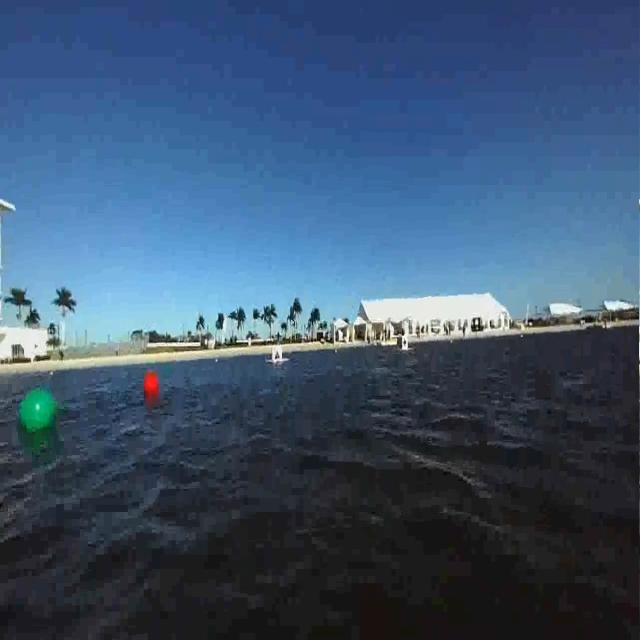green-buoy: (19, 389, 60, 438)
red-buoy: (144, 371, 158, 393)
